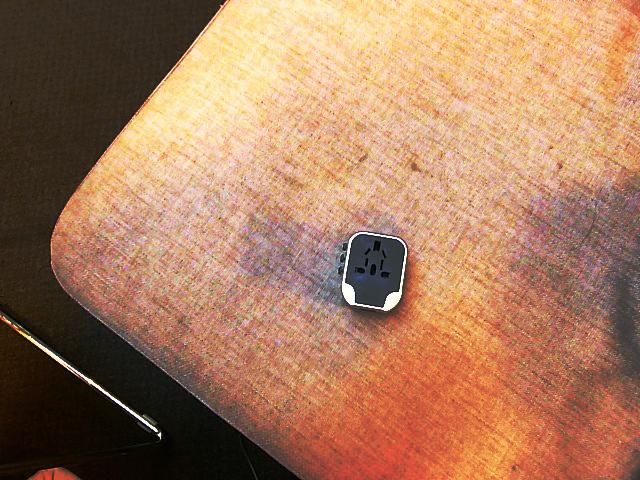adapter: (337, 230, 408, 314)
